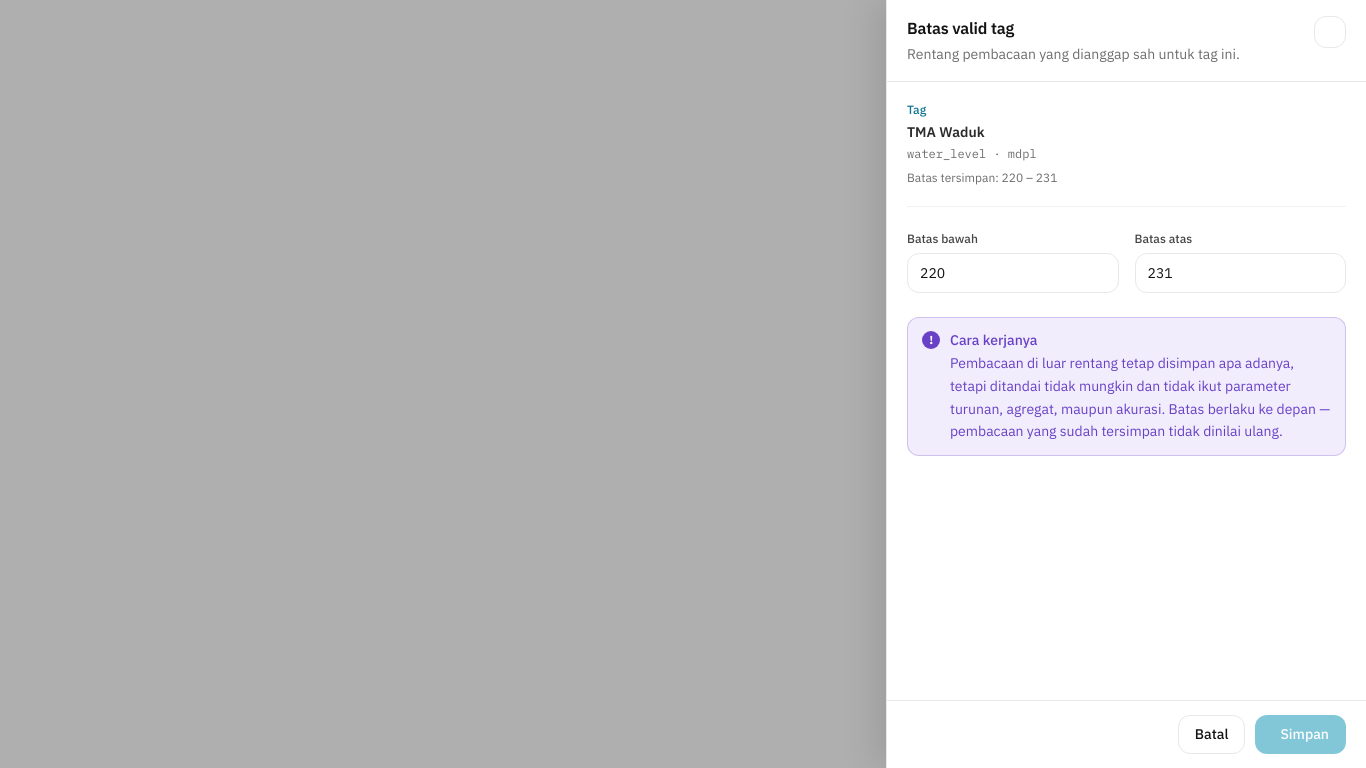
Scenario: sheet batas valid tag › memperingatkan saat kedua batas dikosongkan
The image size is (1366, 768).
Check: the number field labelled "Batas atas" holds "231", box 1134,253 -> 1346,293
Clear the number field labelled "Batas bawah" at (1013, 273), box 907,253 -> 1118,293
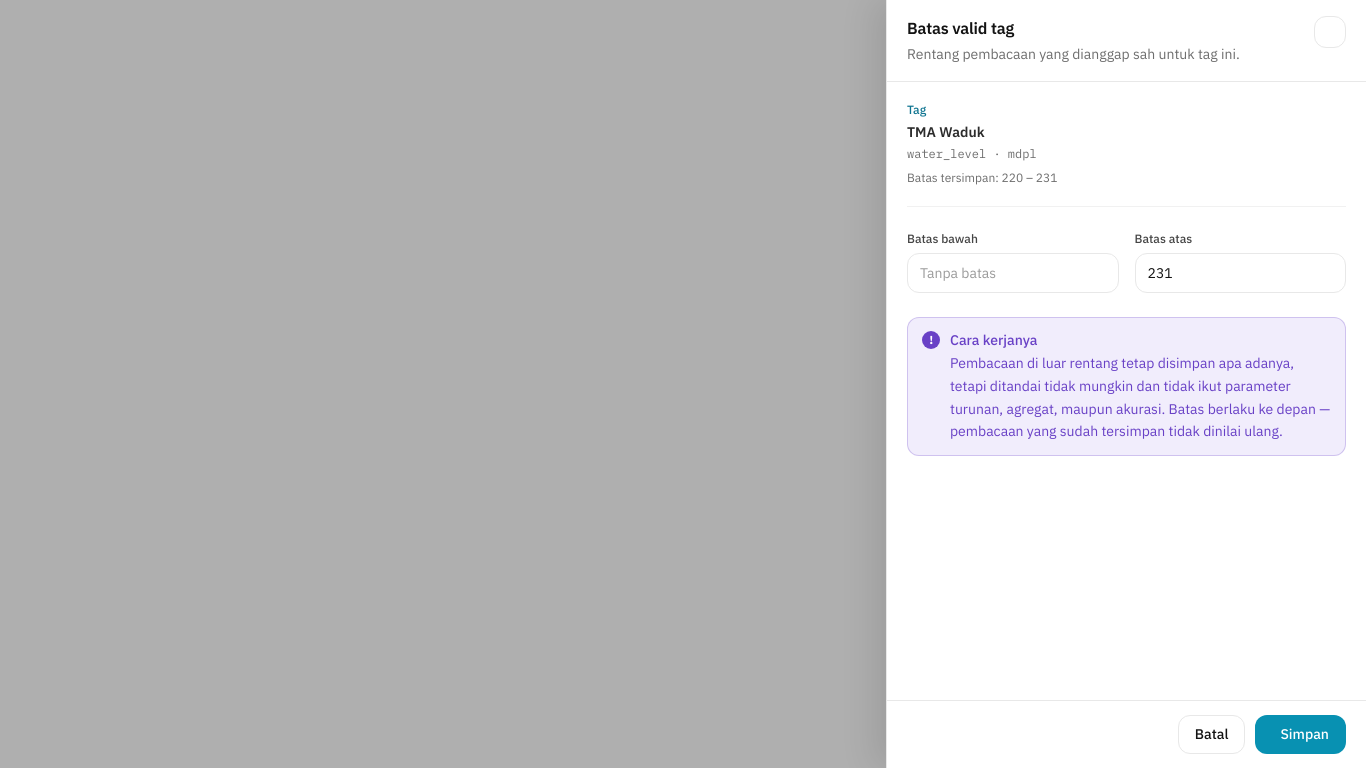
Clear the number field labelled "Batas atas" at (1240, 273), box 1134,253 -> 1346,293
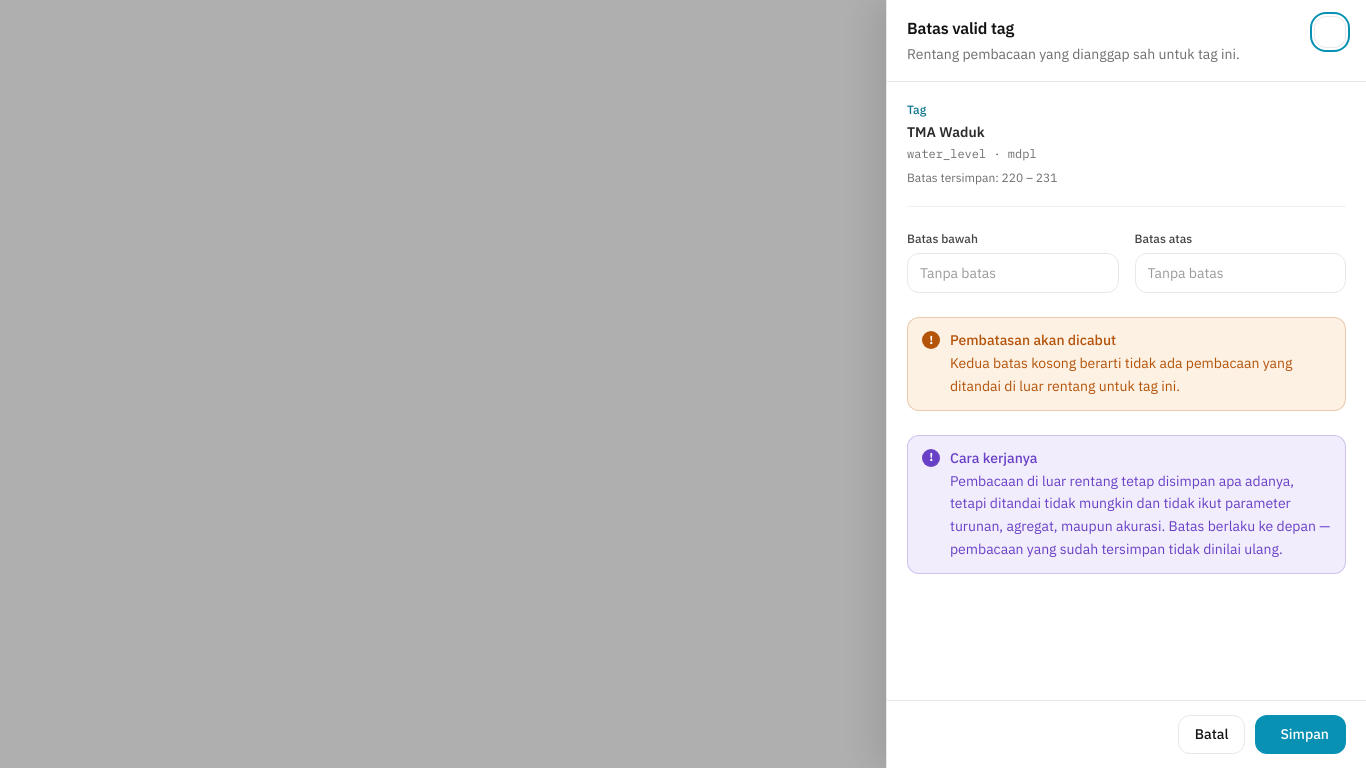
Check: the button "Simpan" is enabled, box 1256,715 -> 1346,754
Check: the text "Pembatasan akan dicabut" is shown, box 950,331 -> 1116,349
